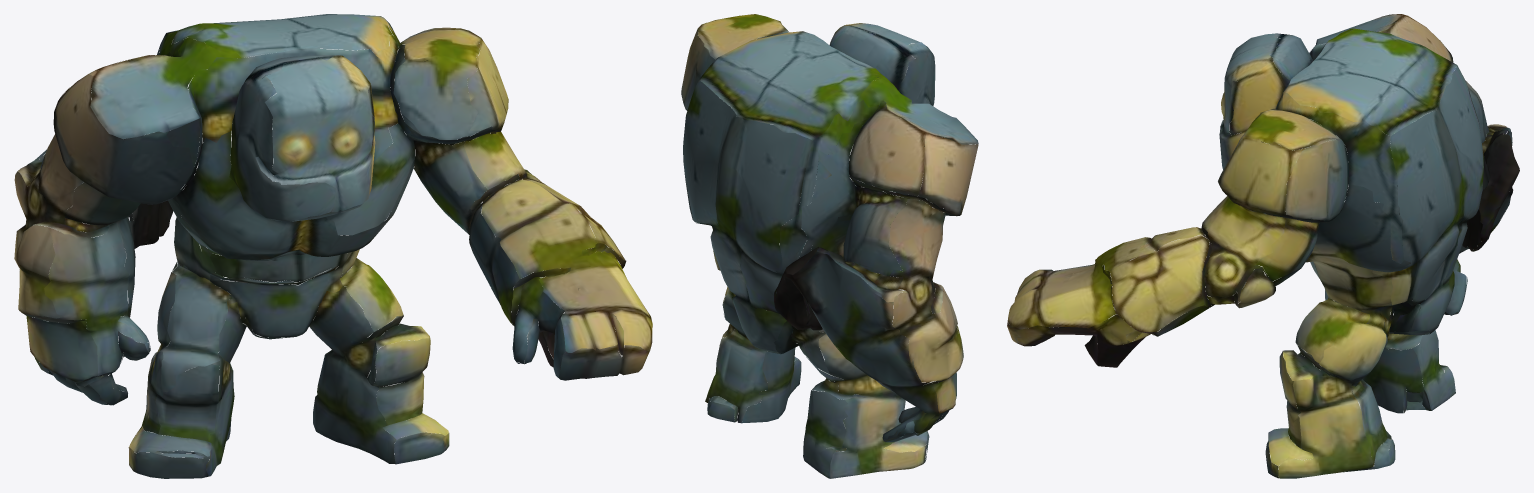
The model's file is golem.glb.
The picture shows the model from 3 angles, left to right: view 1: azimuth 30°, elevation 25°; view 2: azimuth 150°, elevation 25°; view 3: azimuth 270°, elevation 25°; orthographic projection. The views are drawn at different scales.
Parts seen in each view (by area): view 1: geometry_0; view 2: geometry_0; view 3: geometry_0.
Part boxes in pixels (x1=…): geometry_0: x1=14, y1=14, x2=652, y2=478; geometry_0: x1=681, y1=14, x2=978, y2=478; geometry_0: x1=1007, y1=14, x2=1519, y2=478.
Size of the model in its own units: 0.6829 by 0.6565 by 0.8198.
1 material, 1 textured.
